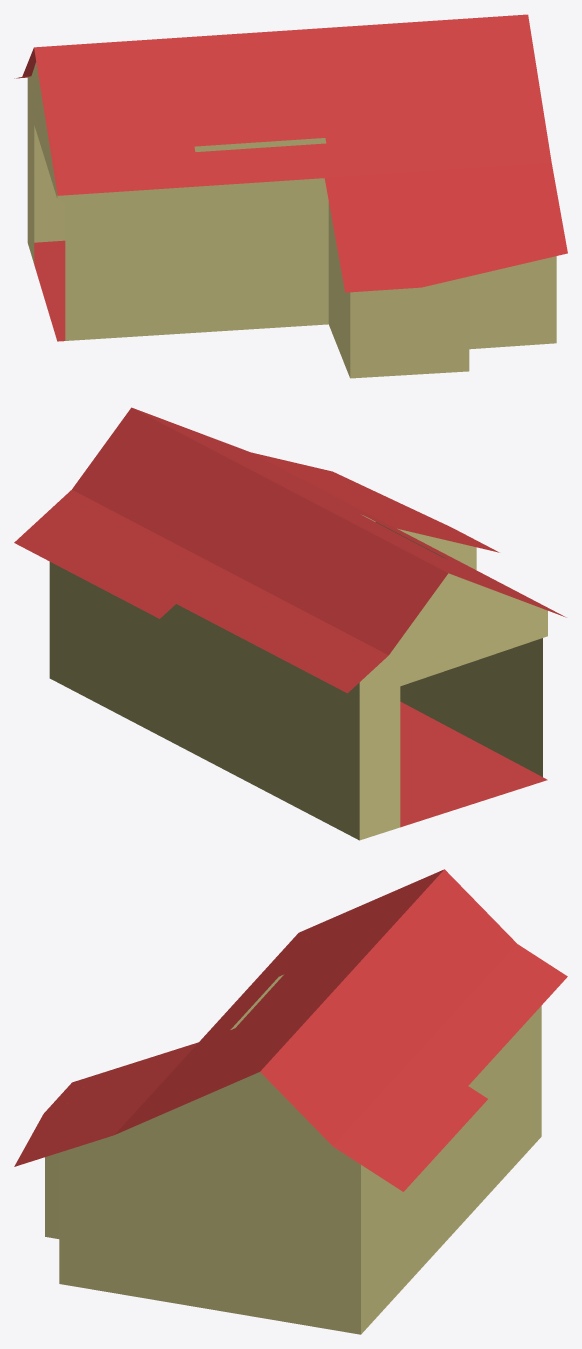
3 views of the same model, one above another, from view 1: azimuth 30°, elevation 25°; view 2: azimuth 150°, elevation 25°; view 3: azimuth 270°, elevation 25° (orthographic). The views are drawn at different scales.
Size of the model in its own units: 29.18 by 27.37 by 13.46.
